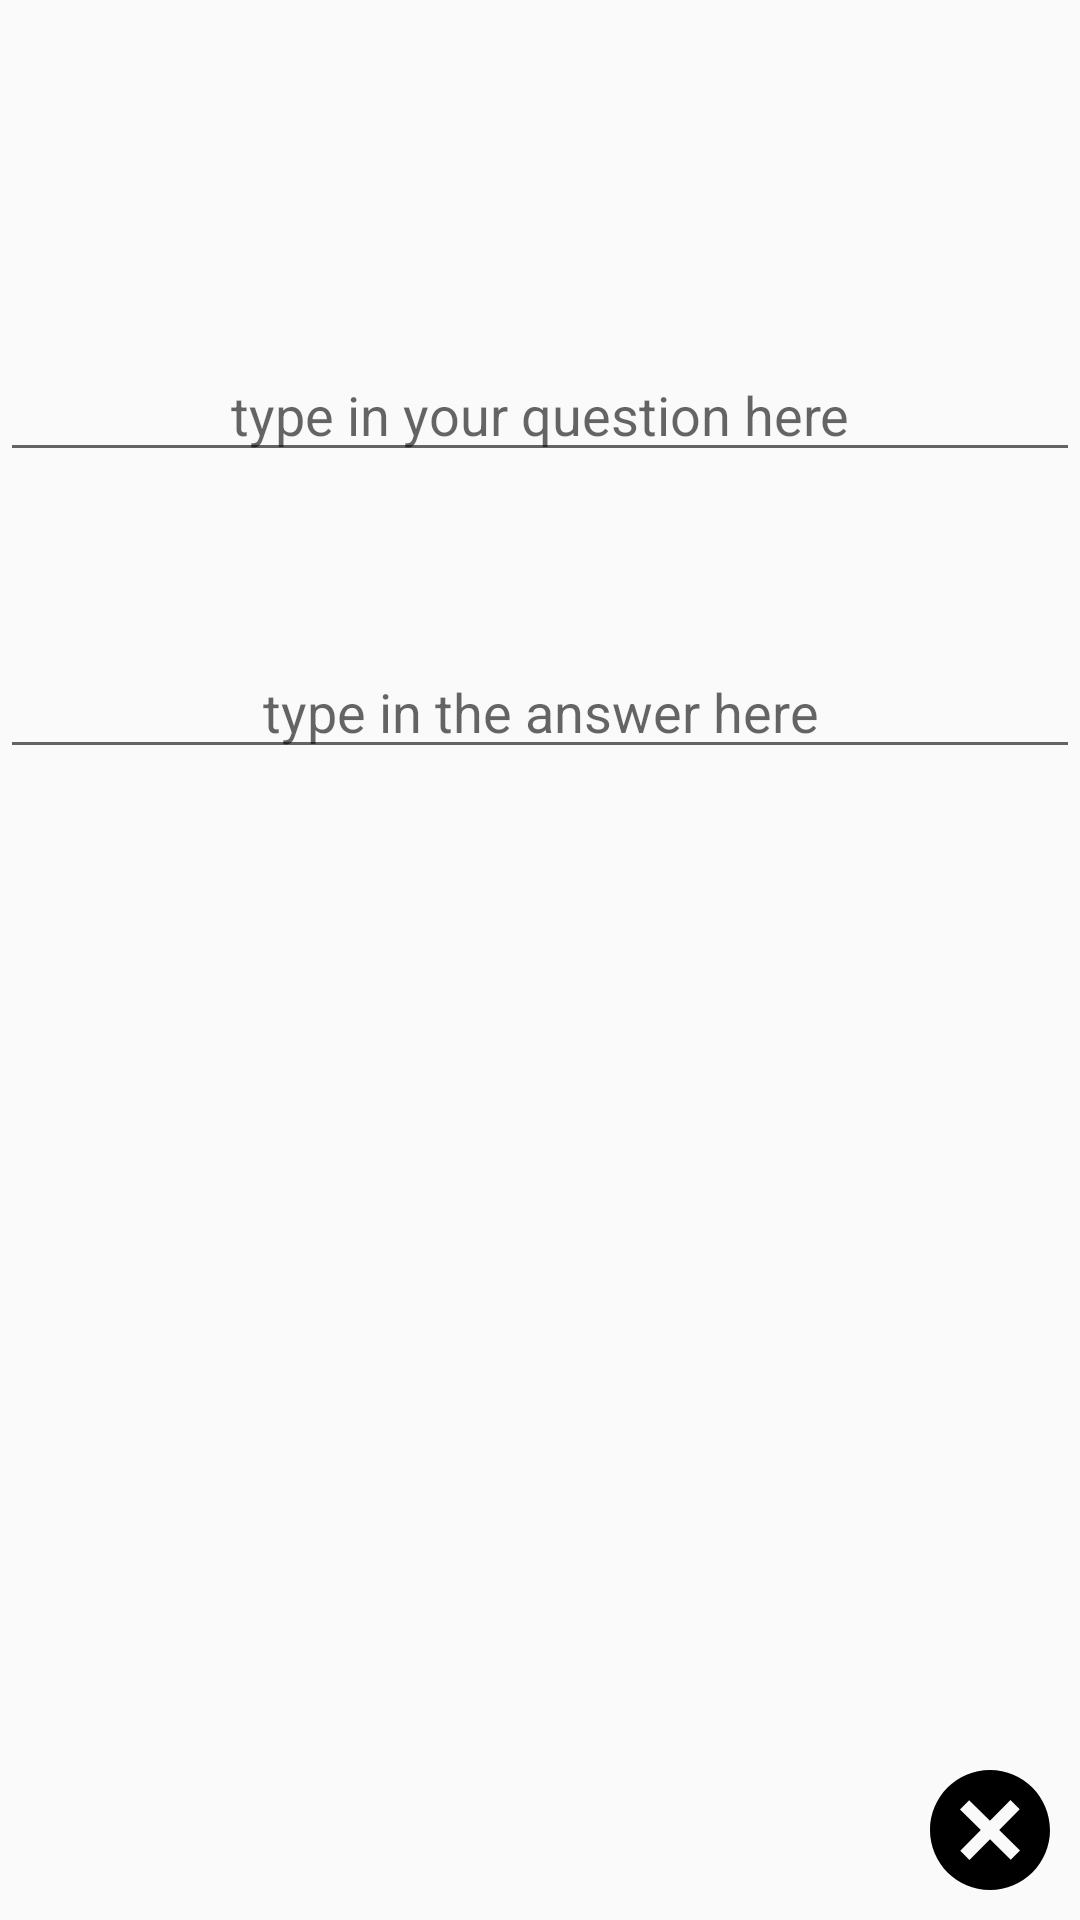

Icon click points for this 1080 x 1920 phone screenshot, format (x=x, y=y):
iconmonstr mark: (x=990, y=1830)
